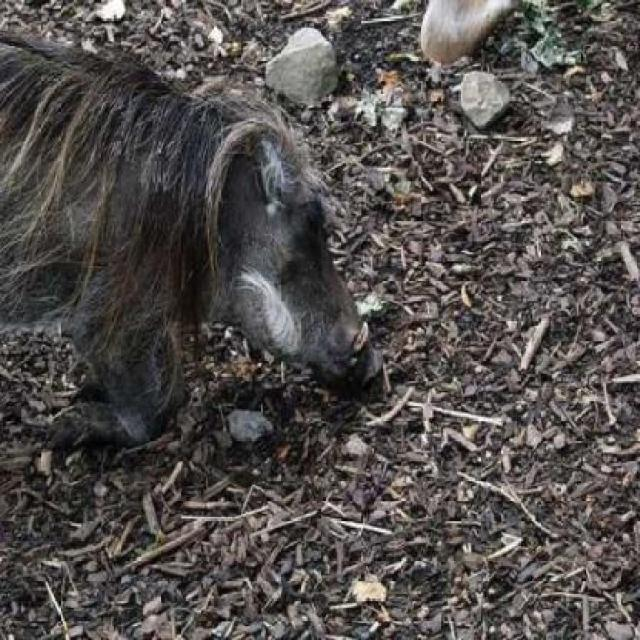Boar: (0, 34, 451, 409)
